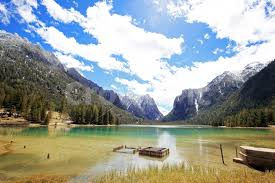lake: (10, 123, 267, 183)
mountain: (6, 47, 151, 125), (179, 58, 270, 125)
sky: (21, 2, 271, 77)
